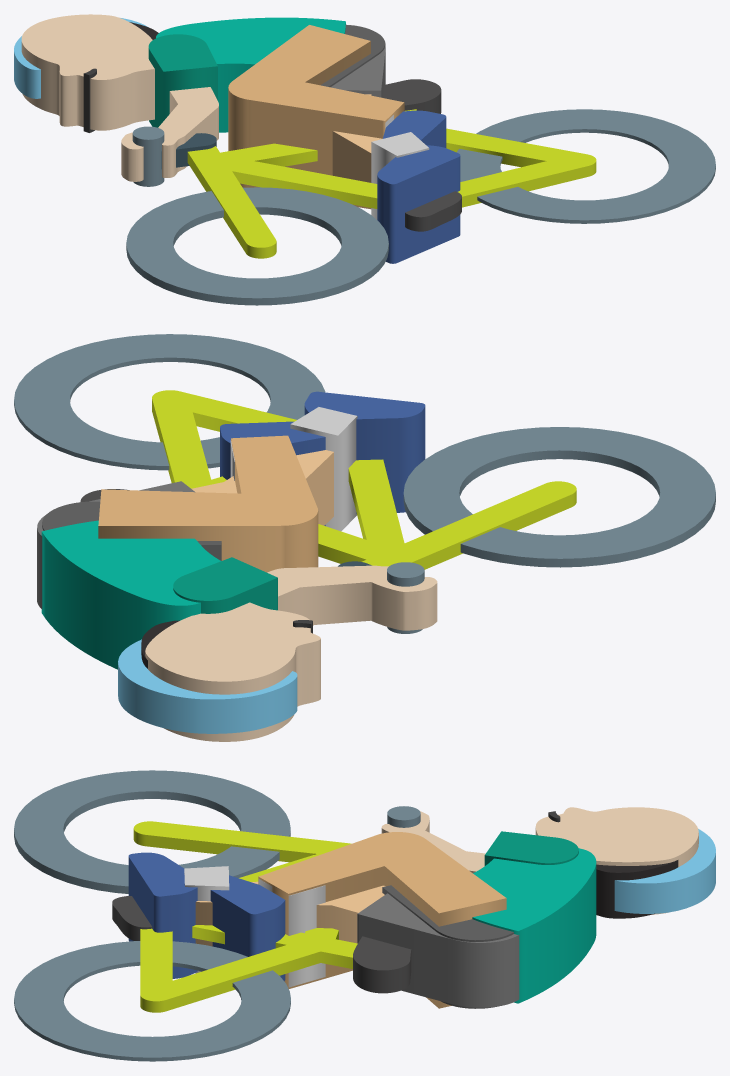
The model's file is emoji_u1f6b4_1f3fb_200d_2642.glb.
The picture shows the model from 3 angles, top to bottom: view 1: azimuth 30°, elevation 25°; view 2: azimuth 150°, elevation 25°; view 3: azimuth 270°, elevation 25°; orthographic projection. The views are drawn at different scales.
Visible parts, largest first — view 1: emoji_u1f6b4_1f3fb_200d_2642; view 2: emoji_u1f6b4_1f3fb_200d_2642; view 3: emoji_u1f6b4_1f3fb_200d_2642.
Boxes of the visible parts, box(x1,y1,x2,y2) form: emoji_u1f6b4_1f3fb_200d_2642: box(14, 14, 715, 305); emoji_u1f6b4_1f3fb_200d_2642: box(14, 334, 715, 741); emoji_u1f6b4_1f3fb_200d_2642: box(14, 770, 715, 1061).
Size of the model in its own units: 0.0321 by 0.005 by 0.0334.
